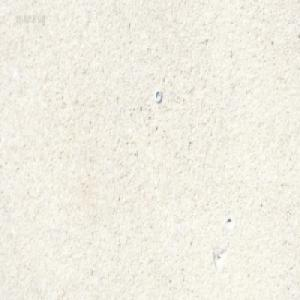Washer: (154, 89, 162, 103)
